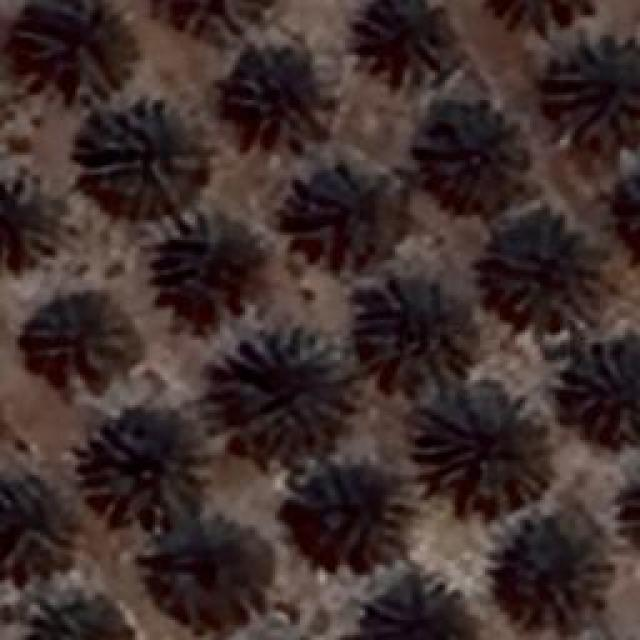PalmTree: (24, 50, 628, 208), (408, 392, 550, 510), (220, 325, 355, 440), (352, 272, 478, 382), (80, 422, 208, 528), (75, 98, 203, 202), (220, 40, 330, 150), (410, 110, 522, 210), (17, 0, 134, 92), (288, 164, 400, 258), (545, 30, 640, 138), (151, 534, 264, 624), (502, 511, 596, 619), (34, 289, 134, 389), (490, 224, 592, 322), (165, 220, 265, 318), (305, 464, 405, 558), (564, 340, 638, 442), (358, 0, 450, 80), (0, 476, 65, 574), (365, 570, 455, 640), (28, 587, 126, 640), (481, 0, 601, 40), (0, 182, 55, 260), (616, 458, 640, 558), (621, 459, 640, 558), (622, 158, 640, 258)
